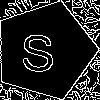S: (20, 25, 55, 72)
